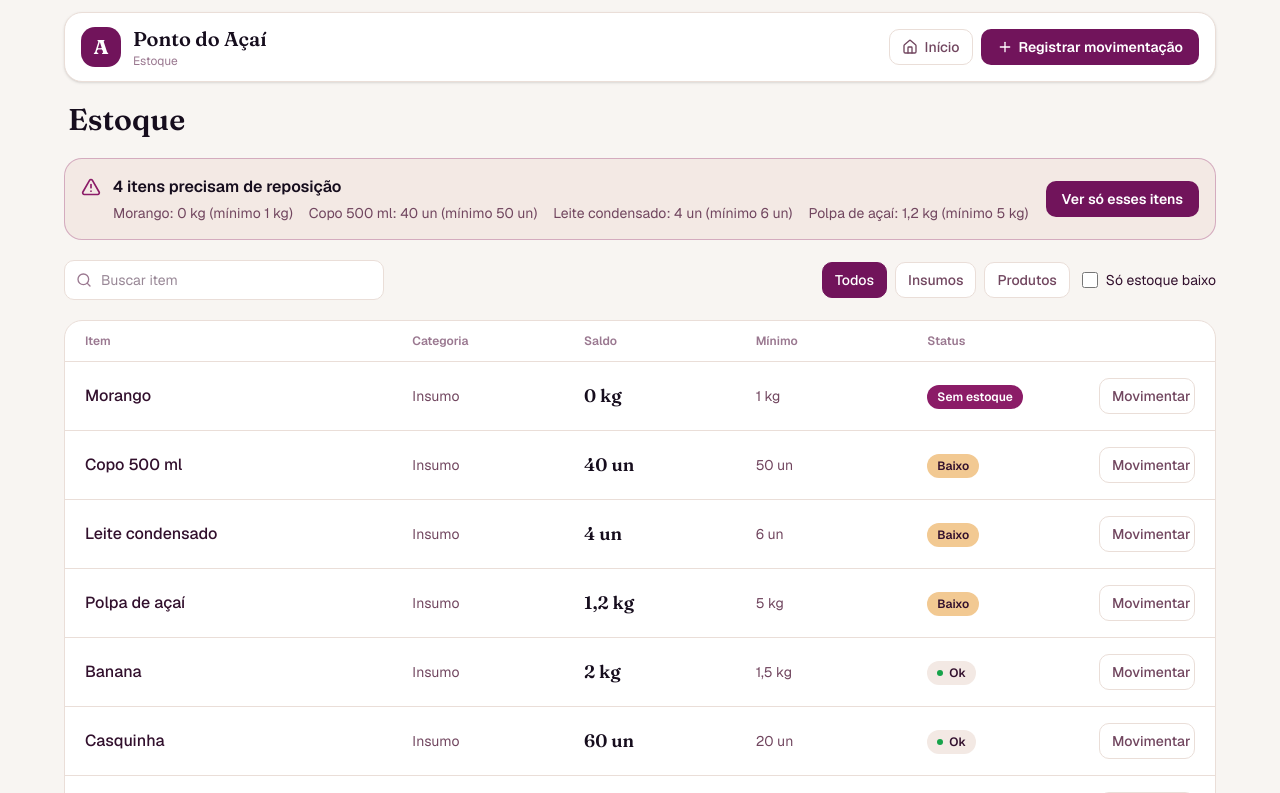
Test: InventoryExperience › filters the list down to low stock from the banner
This screenshot has width=1280, height=793.
Click the button "Ver só esses itens".
click(1122, 199)  # box [1046,181,1199,217]
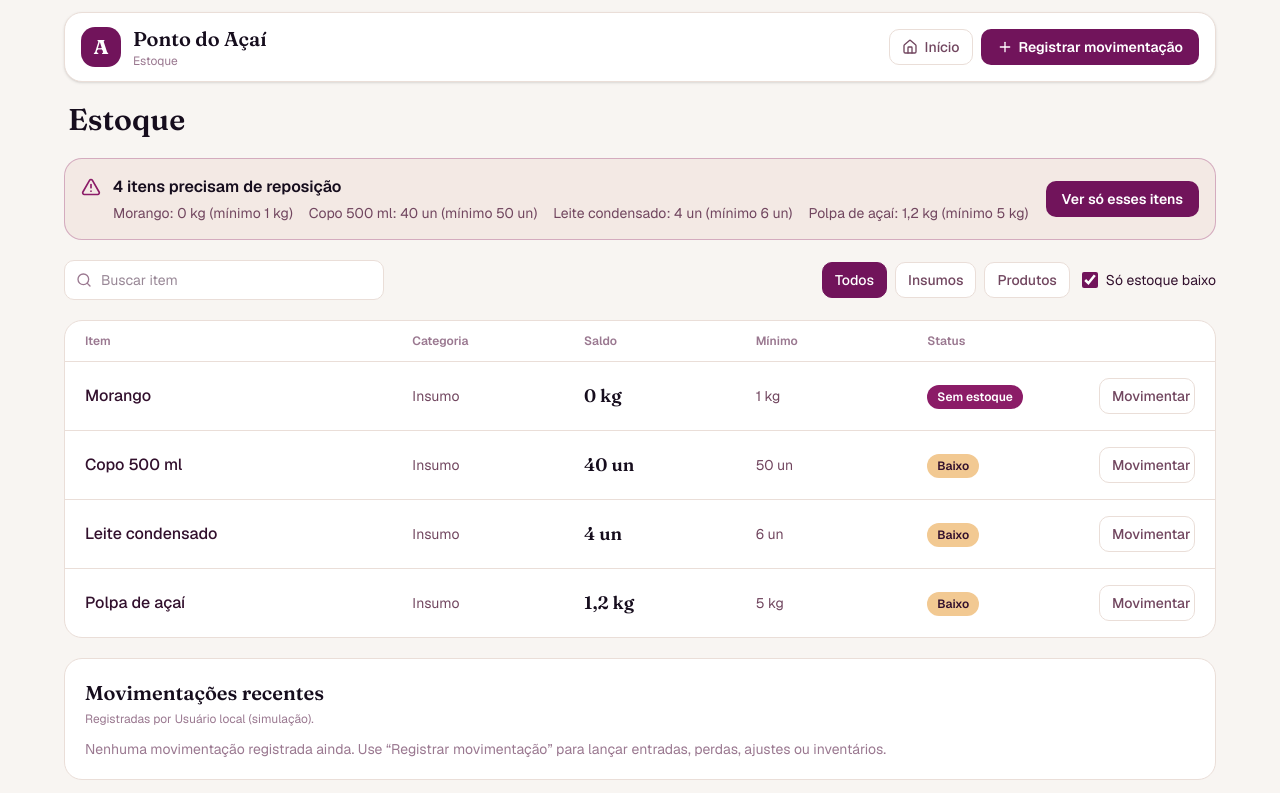
Check: the checkbox labelled "Só estoque baixo" is checked, box [1082,272,1098,288]
